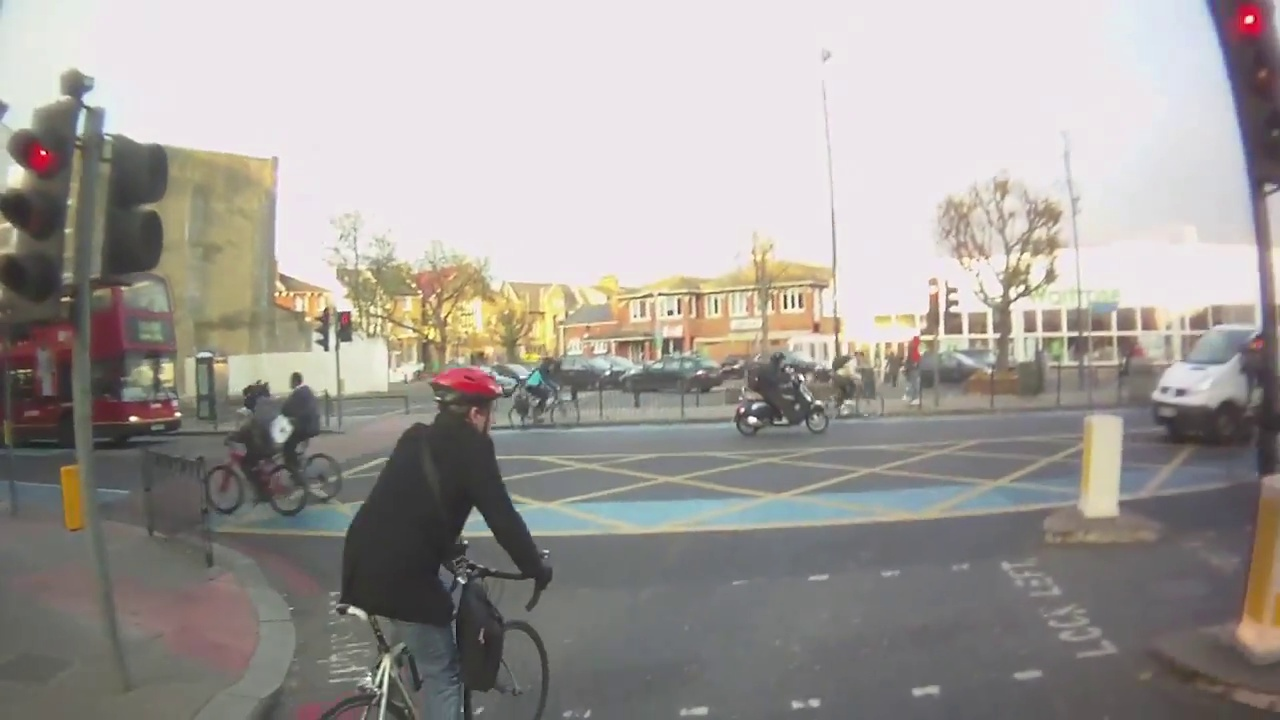cyclist_back: (324, 361, 557, 711)
cyclist_side: (210, 383, 305, 518), (278, 353, 351, 515), (735, 345, 830, 436), (500, 353, 579, 433), (825, 348, 884, 415)
